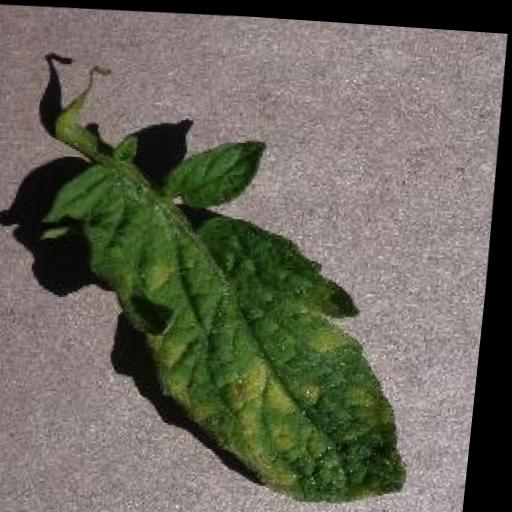Leaf Mold: (23, 126, 445, 507)
